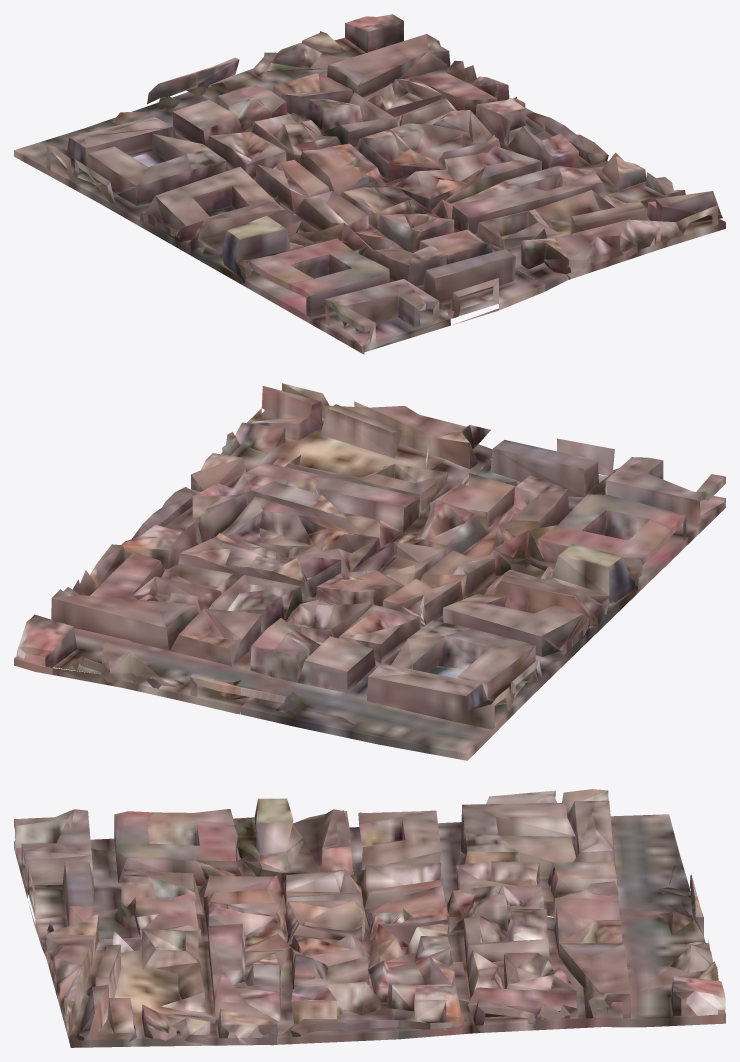
3 views of the same model, one above another, from view 1: azimuth 30°, elevation 25°; view 2: azimuth 150°, elevation 25°; view 3: azimuth 270°, elevation 25° (orthographic). The views are drawn at different scales.
Parts seen in each view (by area): view 1: Mesh_0; view 2: Mesh_0; view 3: Mesh_0.
Boxes of the visible parts, bbox=[...] form: Mesh_0: bbox=[14, 14, 725, 354]; Mesh_0: bbox=[14, 383, 725, 760]; Mesh_0: bbox=[14, 789, 725, 1047].
Size of the model in its own units: 532 by 51.95 by 659.
2 materials, 2 textured.
